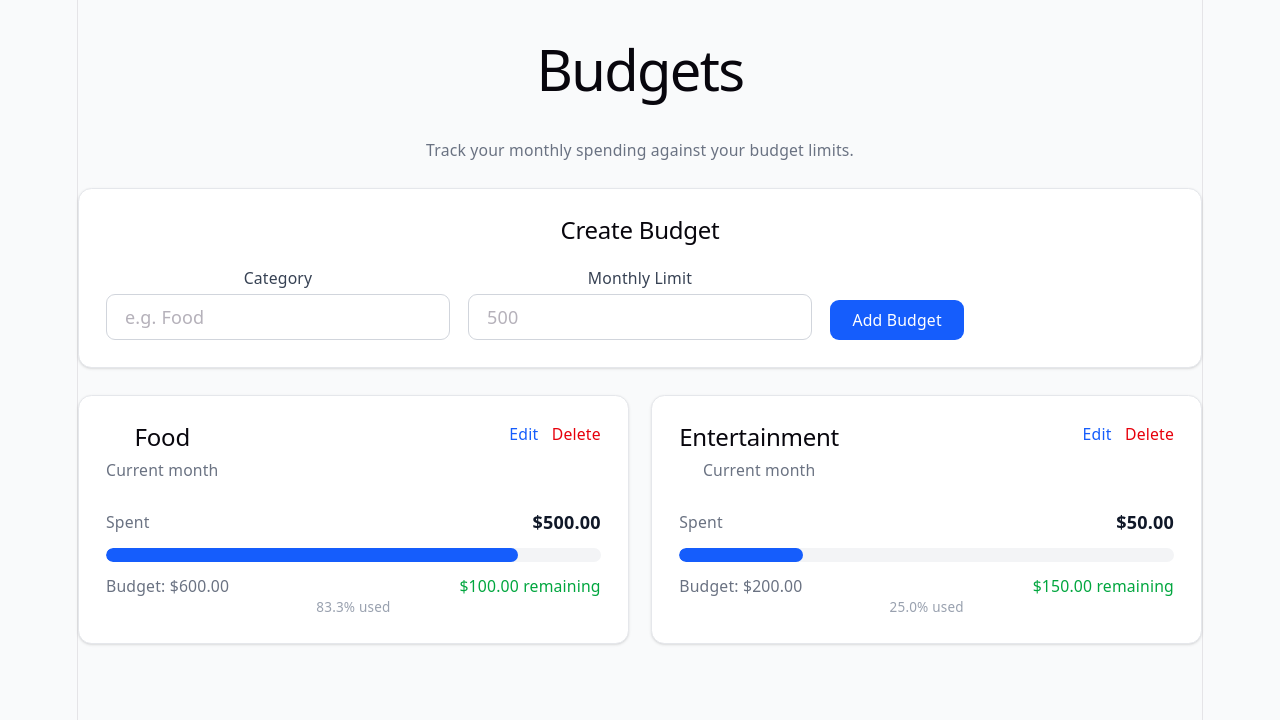
Test: BudgetsPage › opens the edit form
Expected: the text "Food" is shown, [135,420,190,453]
Click the button "Edit" in the row of "Food". click: x=524, y=434
box: [509,423,538,446]
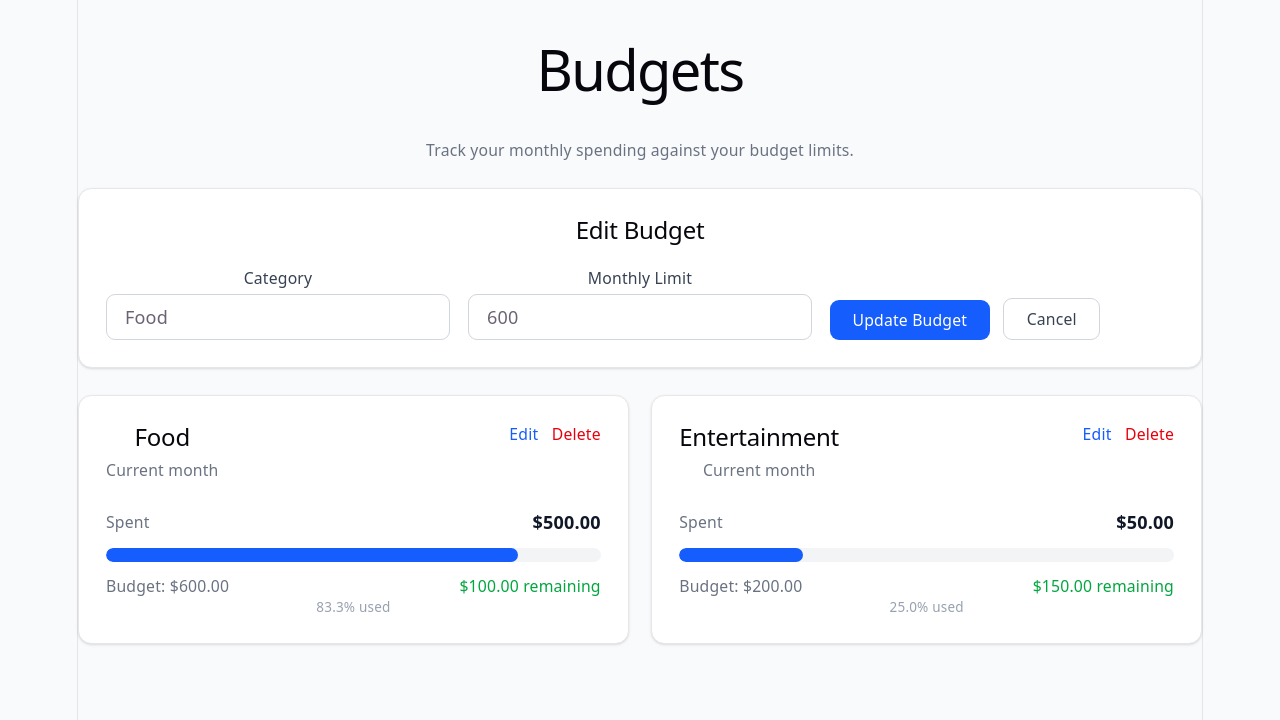
Expected: the field showing "Food" is shown, [106,294,450,340]
Result: the heading "Edit Budget" is shown at [576,213,704,246]
Result: the number field showing "600" is shown at [468,294,812,340]
